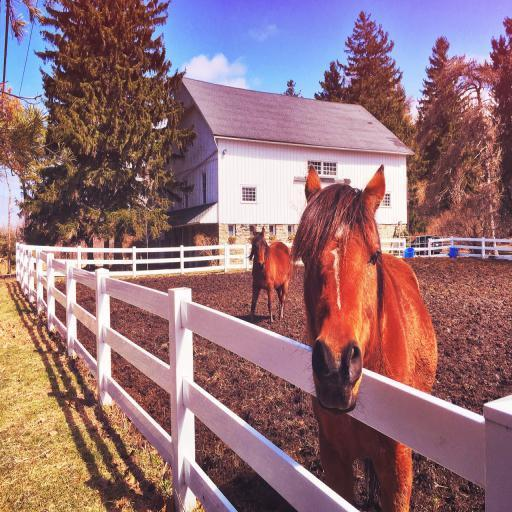horse: (286, 162, 440, 512), (246, 225, 294, 326)
